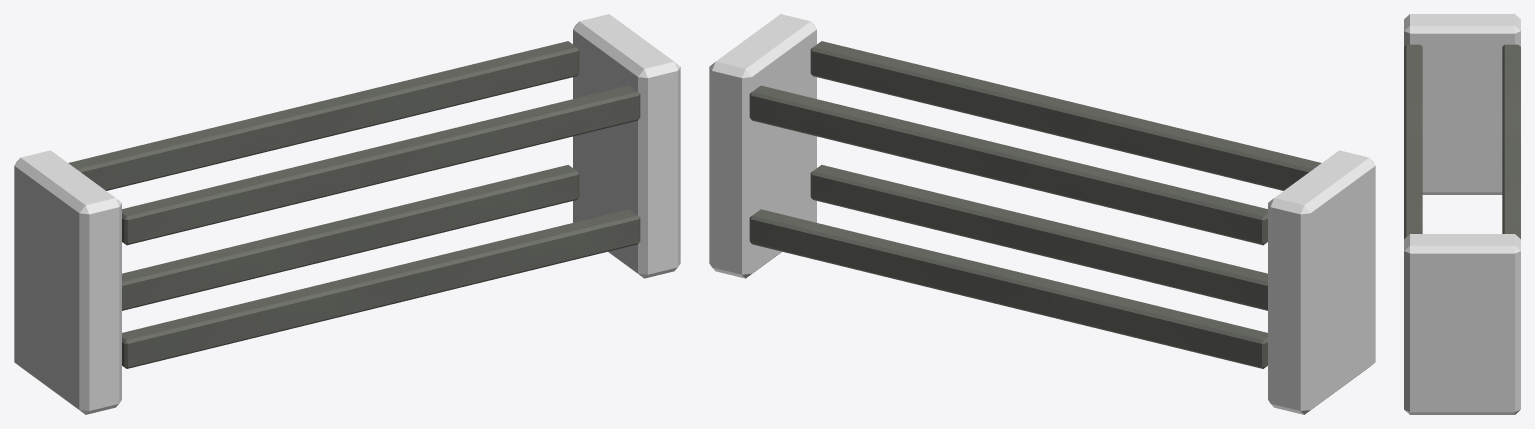
Rendered from WarrensC_CCS37_GateTopHood_Mars_SM.fbx.
3 renders of one model, left to right at view 1: azimuth 30°, elevation 25°; view 2: azimuth 150°, elevation 25°; view 3: azimuth 270°, elevation 25°, orthographic. The views are drawn at different scales.
Parts seen in each view (by area): view 1: WarrensC_CCS37_GateTopHood_Mars_SM.001; view 2: WarrensC_CCS37_GateTopHood_Mars_SM.001; view 3: WarrensC_CCS37_GateTopHood_Mars_SM.001.
Boxes of the visible parts, left/top/right/bottom form: WarrensC_CCS37_GateTopHood_Mars_SM.001: left=14, top=14, right=680, bottom=414; WarrensC_CCS37_GateTopHood_Mars_SM.001: left=709, top=14, right=1375, bottom=414; WarrensC_CCS37_GateTopHood_Mars_SM.001: left=1404, top=14, right=1520, bottom=414.
Bounding box in the file's own units: 240 × 50 × 80.
